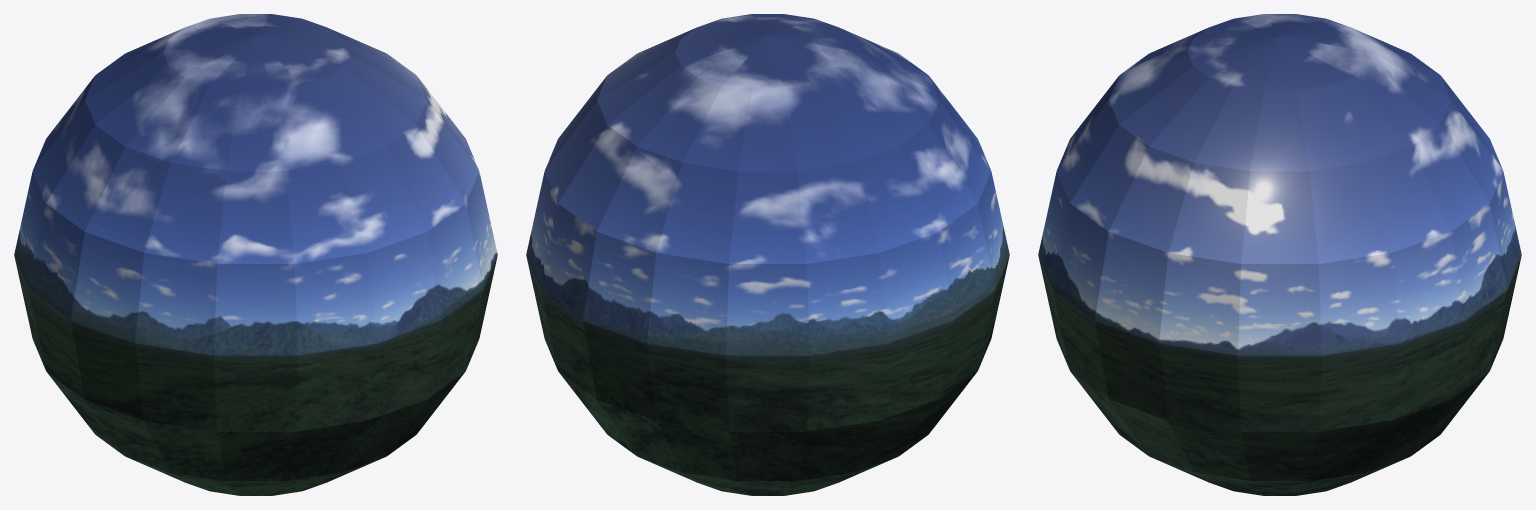
File: SkyDome.obj
3 views of the same model, side by side, from view 1: azimuth 30°, elevation 25°; view 2: azimuth 150°, elevation 25°; view 3: azimuth 270°, elevation 25° (orthographic).
Parts seen in each view (by area): view 1: 球; view 2: 球; view 3: 球.
Boxes of the visible parts, <box> form: 球: <box>14,14,497,495</box>; 球: <box>526,14,1009,495</box>; 球: <box>1038,14,1521,495</box>.
Size of the model in its own units: 197 by 200 by 200.
